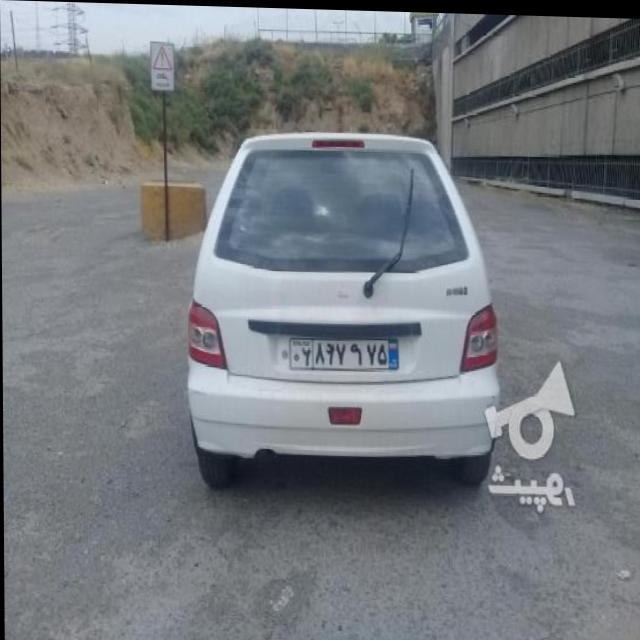licence: (283, 330, 398, 369)
